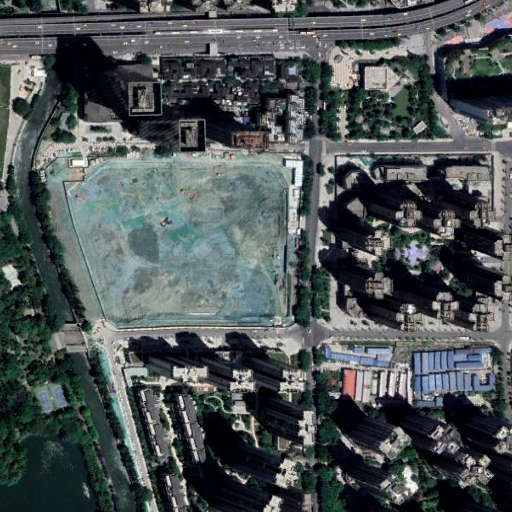cw: (42, 150, 296, 329)
